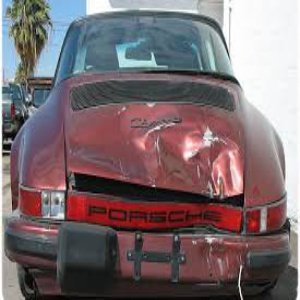bonnet: (68, 126, 243, 194)
bumper: (190, 234, 285, 291)
